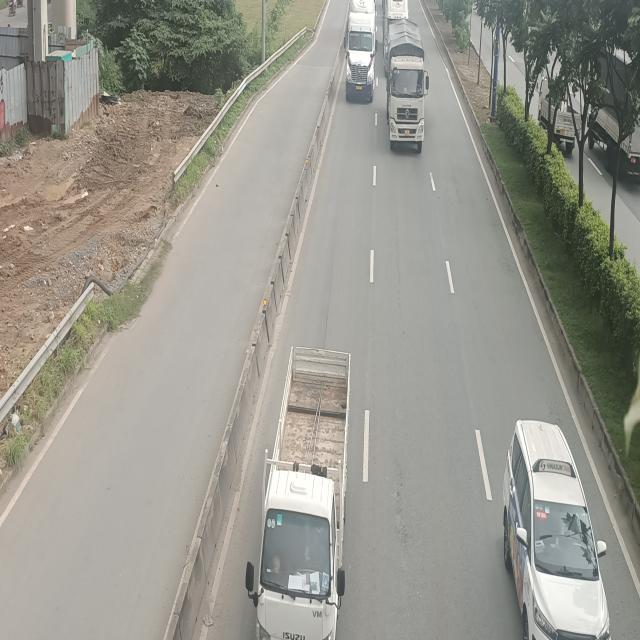car: (504, 421, 615, 640)
container: (343, 0, 378, 101)
truck: (244, 350, 350, 640), (384, 20, 427, 152)
